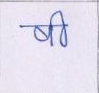i_matra: (53, 10, 69, 47)
